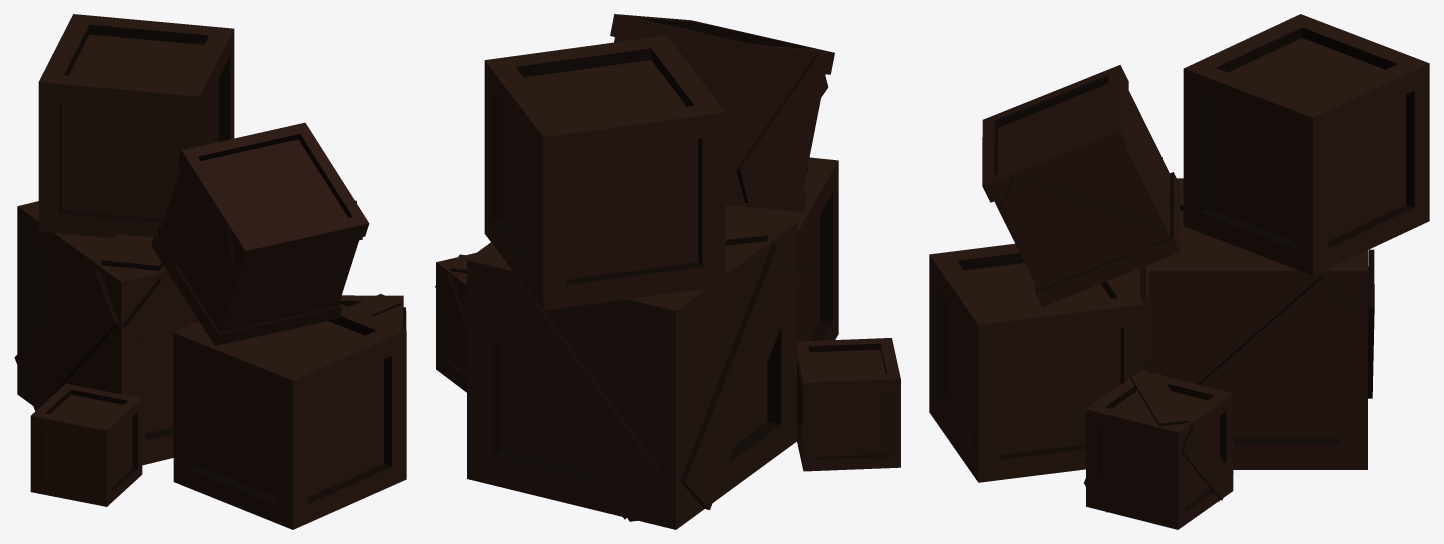
The model's file is D_Manybox.fbx.
3 renders of one model, left to right at view 1: azimuth 30°, elevation 25°; view 2: azimuth 150°, elevation 25°; view 3: azimuth 270°, elevation 25°, orthographic. The views are drawn at different scales.
Parts seen in each view (by area): view 1: ManyBox, ManyBox_Part_19, ManyBox_Part_22, ManyBox_Part_16, ManyBox_Part_3, ManyBox_Part_1, ManyBox_Part_14, ManyBox_Part_17, ManyBox_Part_24, ManyBox_Part_10, ManyBox_Part_25, ManyBox_Part_5 (+8 smaller); view 2: ManyBox, ManyBox_Part_16, ManyBox_Part_15, ManyBox_Part_14, ManyBox_Part_19, ManyBox_Part_5, ManyBox_Part_12, ManyBox_Part_20, ManyBox_Part_1, ManyBox_Part_8, ManyBox_Part_17, ManyBox_Part_4 (+8 smaller); view 3: ManyBox, ManyBox_Part_11, ManyBox_Part_7, ManyBox_Part_14, ManyBox_Part_9, ManyBox_Part_4, ManyBox_Part_13, ManyBox_Part_3, ManyBox_Part_1, ManyBox_Part_21, ManyBox_Part_20, ManyBox_Part_25 (+6 smaller).
Boxes of the visible parts, x1,y1,x2,y2 form: ManyBox: (17, 14, 406, 529); ManyBox_Part_19: (17, 83, 178, 249); ManyBox_Part_22: (102, 372, 330, 529); ManyBox_Part_16: (30, 294, 173, 504); ManyBox_Part_3: (216, 319, 386, 447); ManyBox_Part_1: (152, 94, 254, 249); ManyBox_Part_14: (66, 24, 180, 85); ManyBox_Part_17: (110, 233, 253, 344); ManyBox_Part_24: (130, 286, 326, 402); ManyBox_Part_10: (200, 196, 298, 323); ManyBox_Part_25: (215, 122, 369, 265); ManyBox_Part_5: (14, 273, 70, 410); ManyBox: (435, 14, 896, 528); ManyBox_Part_16: (700, 247, 900, 487); ManyBox_Part_15: (502, 301, 702, 478); ManyBox_Part_14: (507, 48, 686, 237); ManyBox_Part_19: (618, 65, 744, 323); ManyBox_Part_5: (572, 389, 733, 529); ManyBox_Part_12: (462, 291, 578, 504); ManyBox_Part_20: (467, 133, 626, 311); ManyBox_Part_1: (674, 27, 792, 203); ManyBox_Part_8: (691, 231, 791, 383); ManyBox_Part_17: (725, 99, 810, 249); ManyBox_Part_4: (486, 49, 650, 230); ManyBox: (929, 14, 1429, 529); ManyBox_Part_11: (1063, 360, 1210, 509); ManyBox_Part_7: (1139, 295, 1312, 418); ManyBox_Part_14: (1218, 36, 1415, 116); ManyBox_Part_9: (962, 306, 1086, 461); ManyBox_Part_4: (1201, 89, 1360, 275); ManyBox_Part_13: (1164, 175, 1273, 270); ManyBox_Part_3: (929, 243, 1049, 375); ManyBox_Part_1: (1057, 65, 1209, 213); ManyBox_Part_21: (1099, 393, 1233, 529); ManyBox_Part_20: (1300, 111, 1415, 301); ManyBox_Part_25: (982, 92, 1144, 208).
Size of the model in its own units: 92.45 by 77.99 by 97.73.
